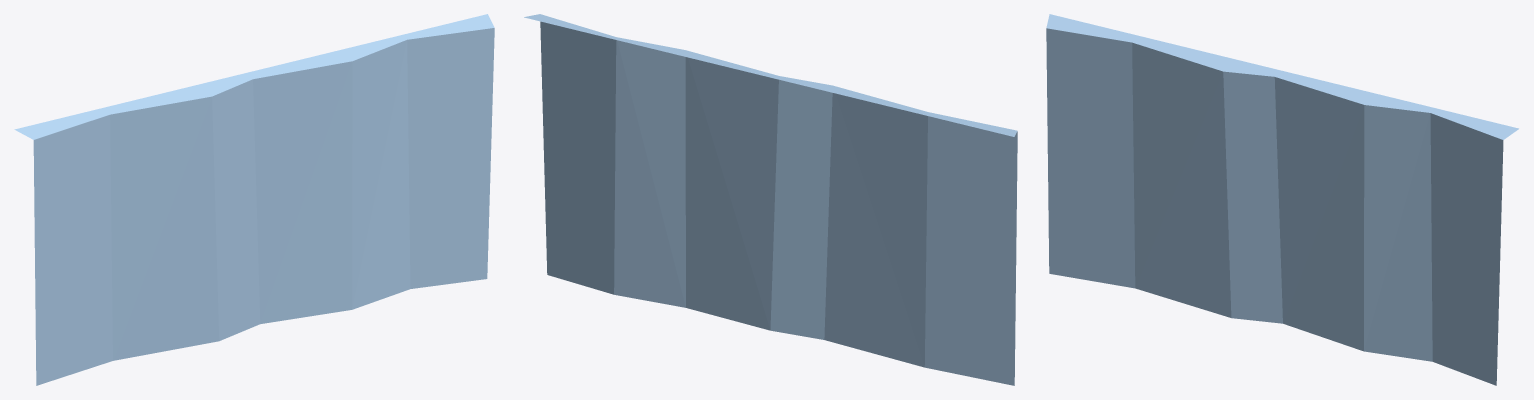
The model's file is Waterfall_Straight_Small_01.fbx.
The picture shows the model from 3 angles, left to right: view 1: azimuth 30°, elevation 25°; view 2: azimuth 150°, elevation 25°; view 3: azimuth 330°, elevation 25°; orthographic projection. The views are drawn at different scales.
Parts seen in each view (by area): view 1: Waterfall_Straight_Small_01; view 2: Waterfall_Straight_Small_01; view 3: Waterfall_Straight_Small_01.
Part boxes in pixels (x1=…): Waterfall_Straight_Small_01: x1=14, y1=14, x2=494, y2=385; Waterfall_Straight_Small_01: x1=524, y1=14, x2=1017, y2=385; Waterfall_Straight_Small_01: x1=1046, y1=14, x2=1518, y2=385.
Size of the model in its own units: 62.99 by 32.26 by 2.68.
